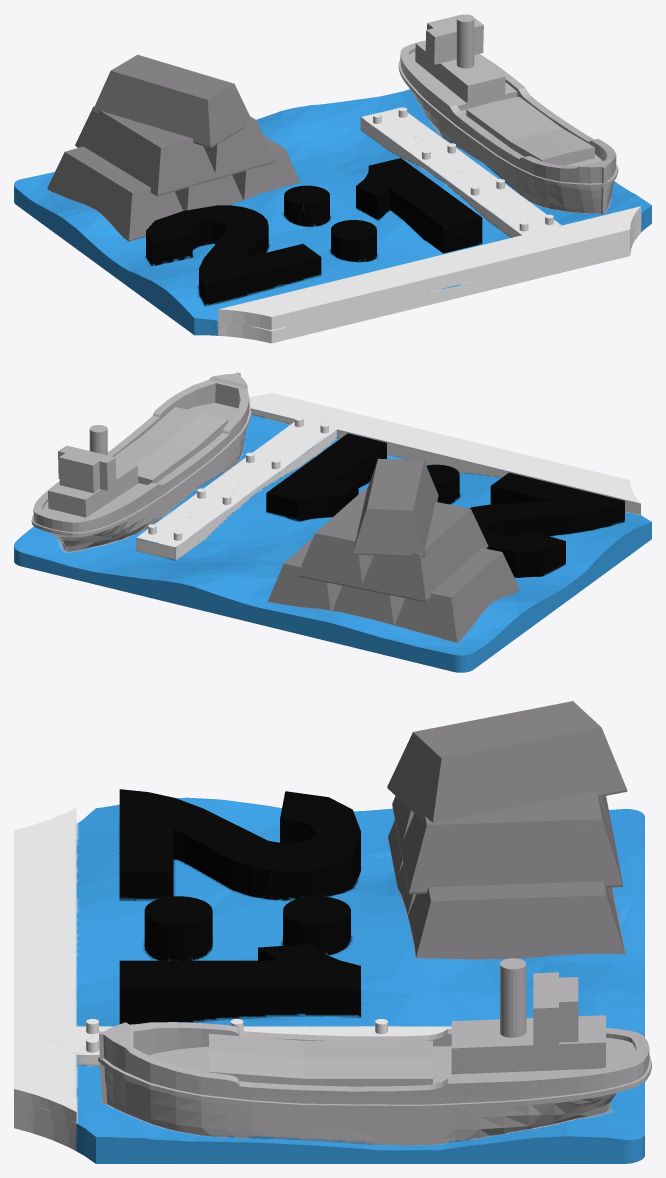
File: OrePort.fbx
3 views of the same model, one above another, from view 1: azimuth 30°, elevation 25°; view 2: azimuth 150°, elevation 25°; view 3: azimuth 270°, elevation 25° (orthographic). The views are drawn at different scales.
Parts seen in each view (by area): view 1: node_id3; view 2: node_id3; view 3: node_id3.
Boxes of the visible parts, x1,y1,x2,y2 form: node_id3: [14, 14, 651, 343]; node_id3: [14, 372, 651, 672]; node_id3: [14, 701, 651, 1163].
Bounding box in the file's own units: 0.512 × 0.1364 × 0.4181.
Materials: 1 (1 with a texture image).
